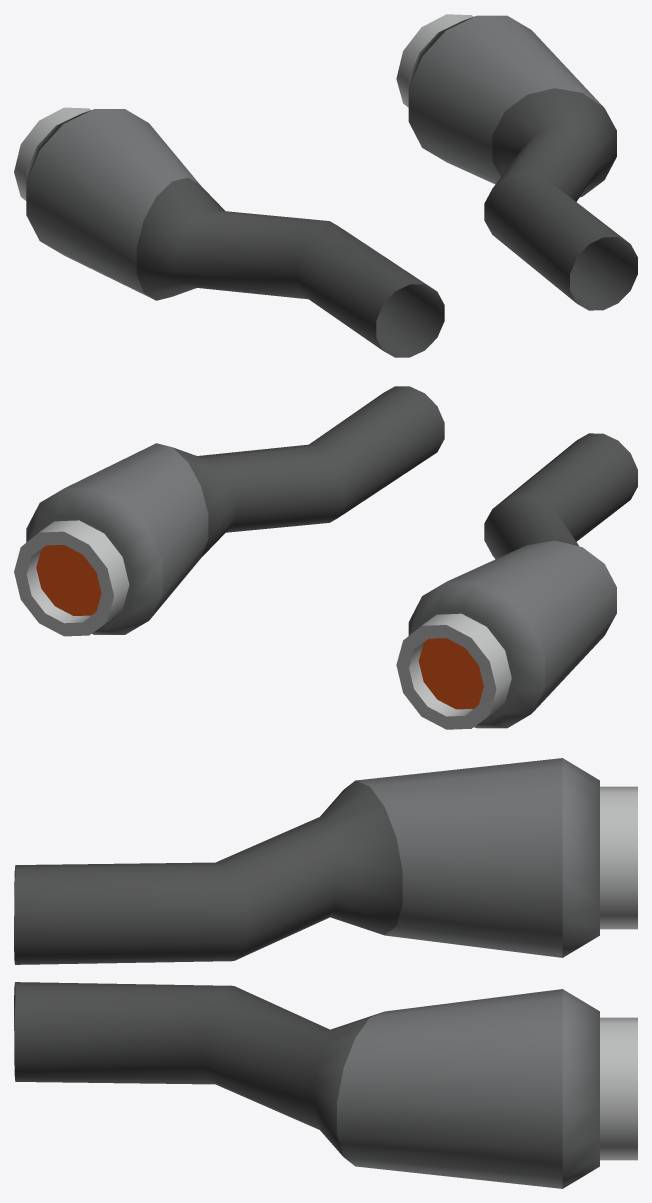
File: Car_05_Pipe_Cool.fbx
3 views of the same model, one above another, from view 1: azimuth 30°, elevation 25°; view 2: azimuth 150°, elevation 25°; view 3: azimuth 270°, elevation 25° (orthographic). The views are drawn at different scales.
Visible parts, largest first — view 1: Car_05_Pipe_Cool; view 2: Car_05_Pipe_Cool; view 3: Car_05_Pipe_Cool.
Boxes of the visible parts, left/top/right/bottom form: Car_05_Pipe_Cool: left=14, top=14, right=637, bottom=357; Car_05_Pipe_Cool: left=14, top=386, right=637, bottom=729; Car_05_Pipe_Cool: left=14, top=758, right=637, bottom=1188.
Size of the model in its own units: 110 by 92.47 by 29.63.
